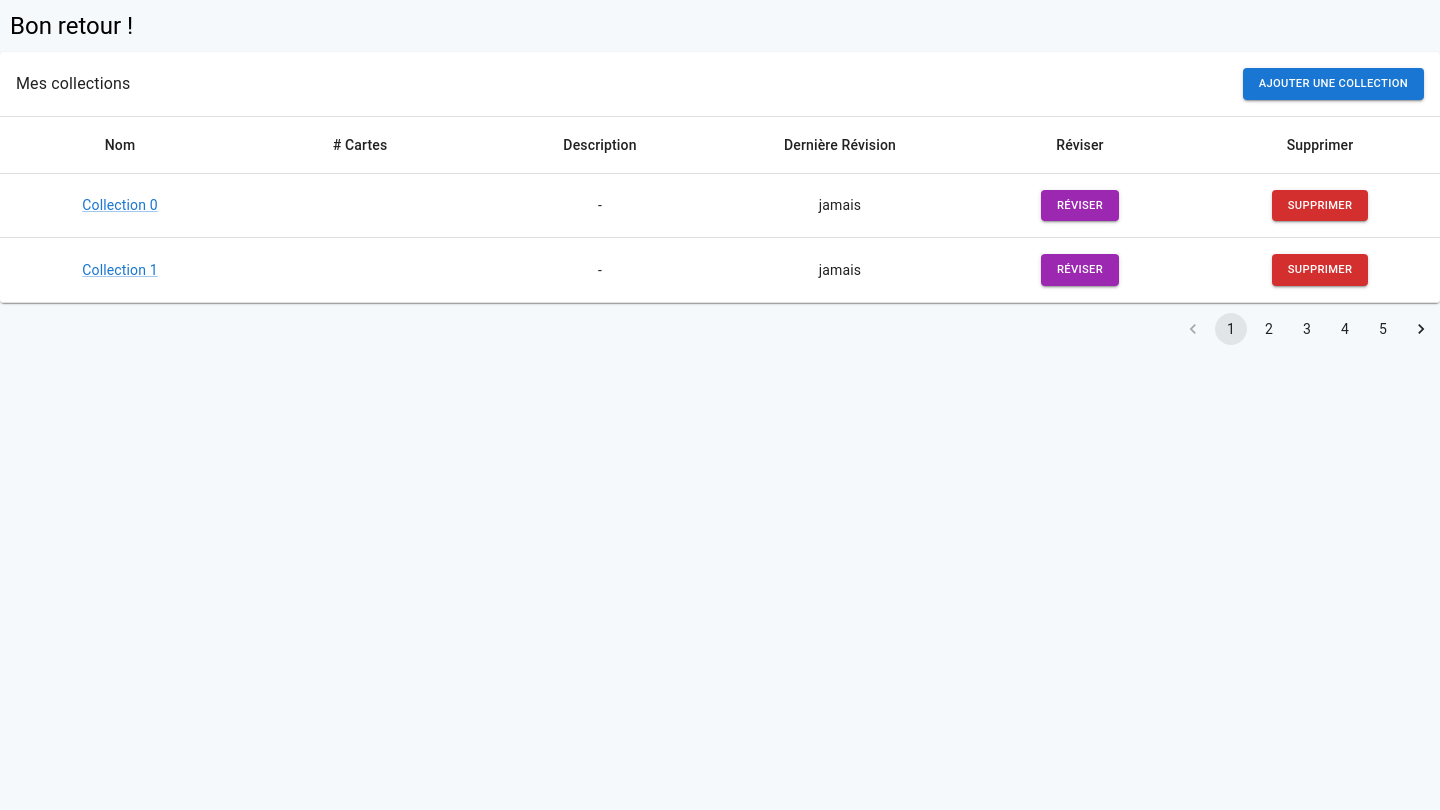
Test: HomeContent › Tests clicking the delete button
Click the button with test id "delete-collection-0".
click(1320, 205)  # box x1=1272 y1=190 x2=1368 y2=221
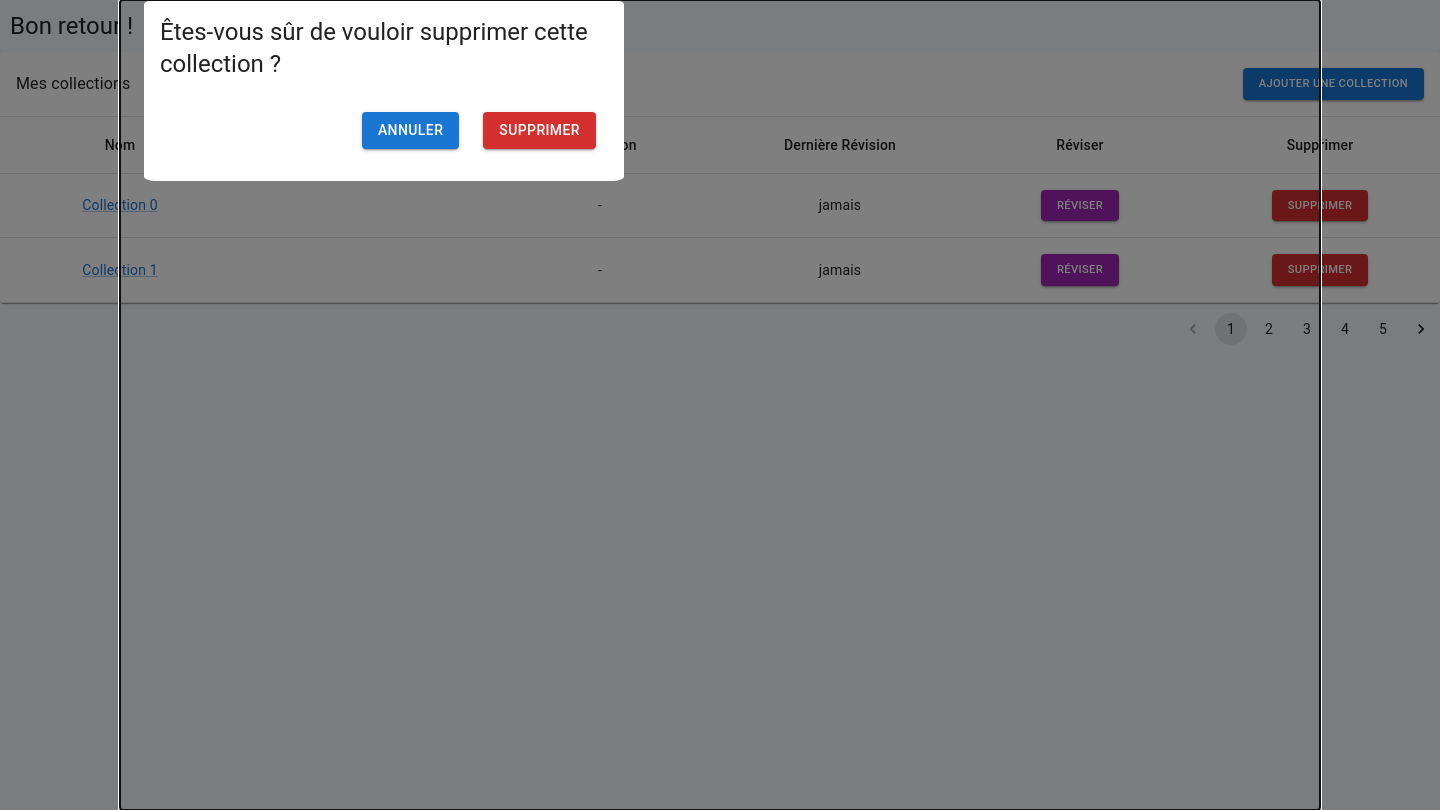
Expected: the element with test id "delete-collection-modal" is shown
